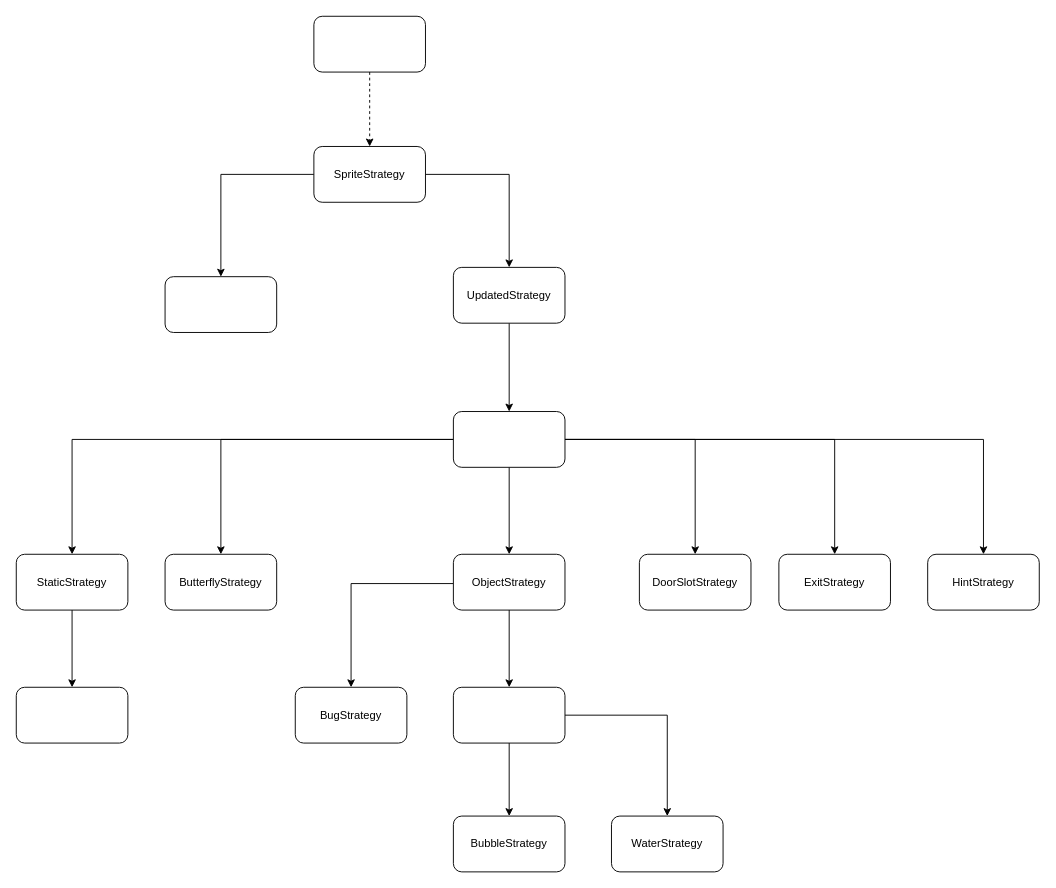
The diagram is 1056 pixels wide and 888 high, and some of its shapes have lost their labels. The centre of each missing label's shape, as x and y in pixels:
AnimatedStrategy: (x=508, y=439)
EmitterStrategy: (x=71, y=714)
EmptyStrategy: (x=220, y=304)
MineralStrategy: (x=508, y=714)
SpriteController: (x=369, y=43)
